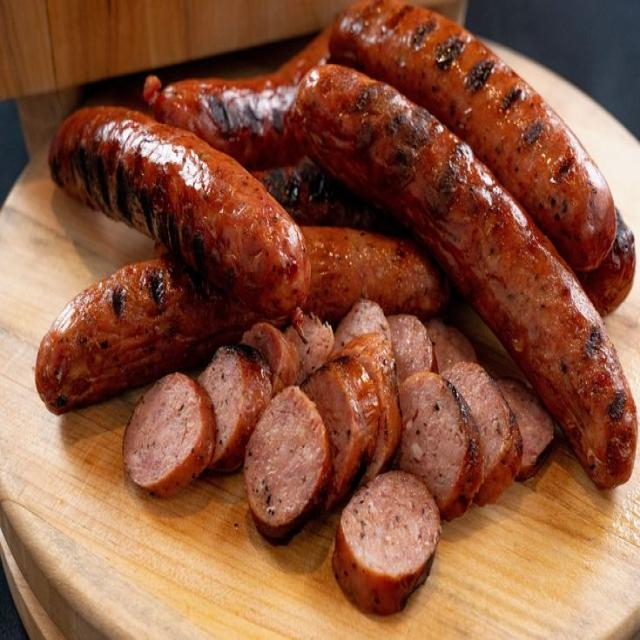sausage: (296, 66, 637, 487), (331, 0, 615, 270), (49, 108, 309, 317), (35, 254, 261, 414), (35, 254, 259, 414), (144, 29, 329, 168), (332, 472, 440, 615), (304, 228, 449, 322), (244, 387, 332, 539), (398, 371, 483, 521), (302, 357, 379, 509), (253, 159, 404, 235), (123, 374, 215, 496), (445, 362, 522, 505), (338, 332, 401, 481), (199, 345, 271, 472), (577, 209, 635, 316), (497, 379, 554, 480), (242, 322, 299, 395), (387, 314, 437, 385), (285, 314, 334, 385), (334, 298, 390, 352), (425, 318, 478, 372)
